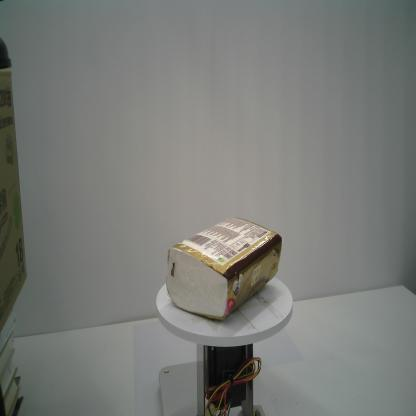Tissue: (166, 217, 282, 320)
